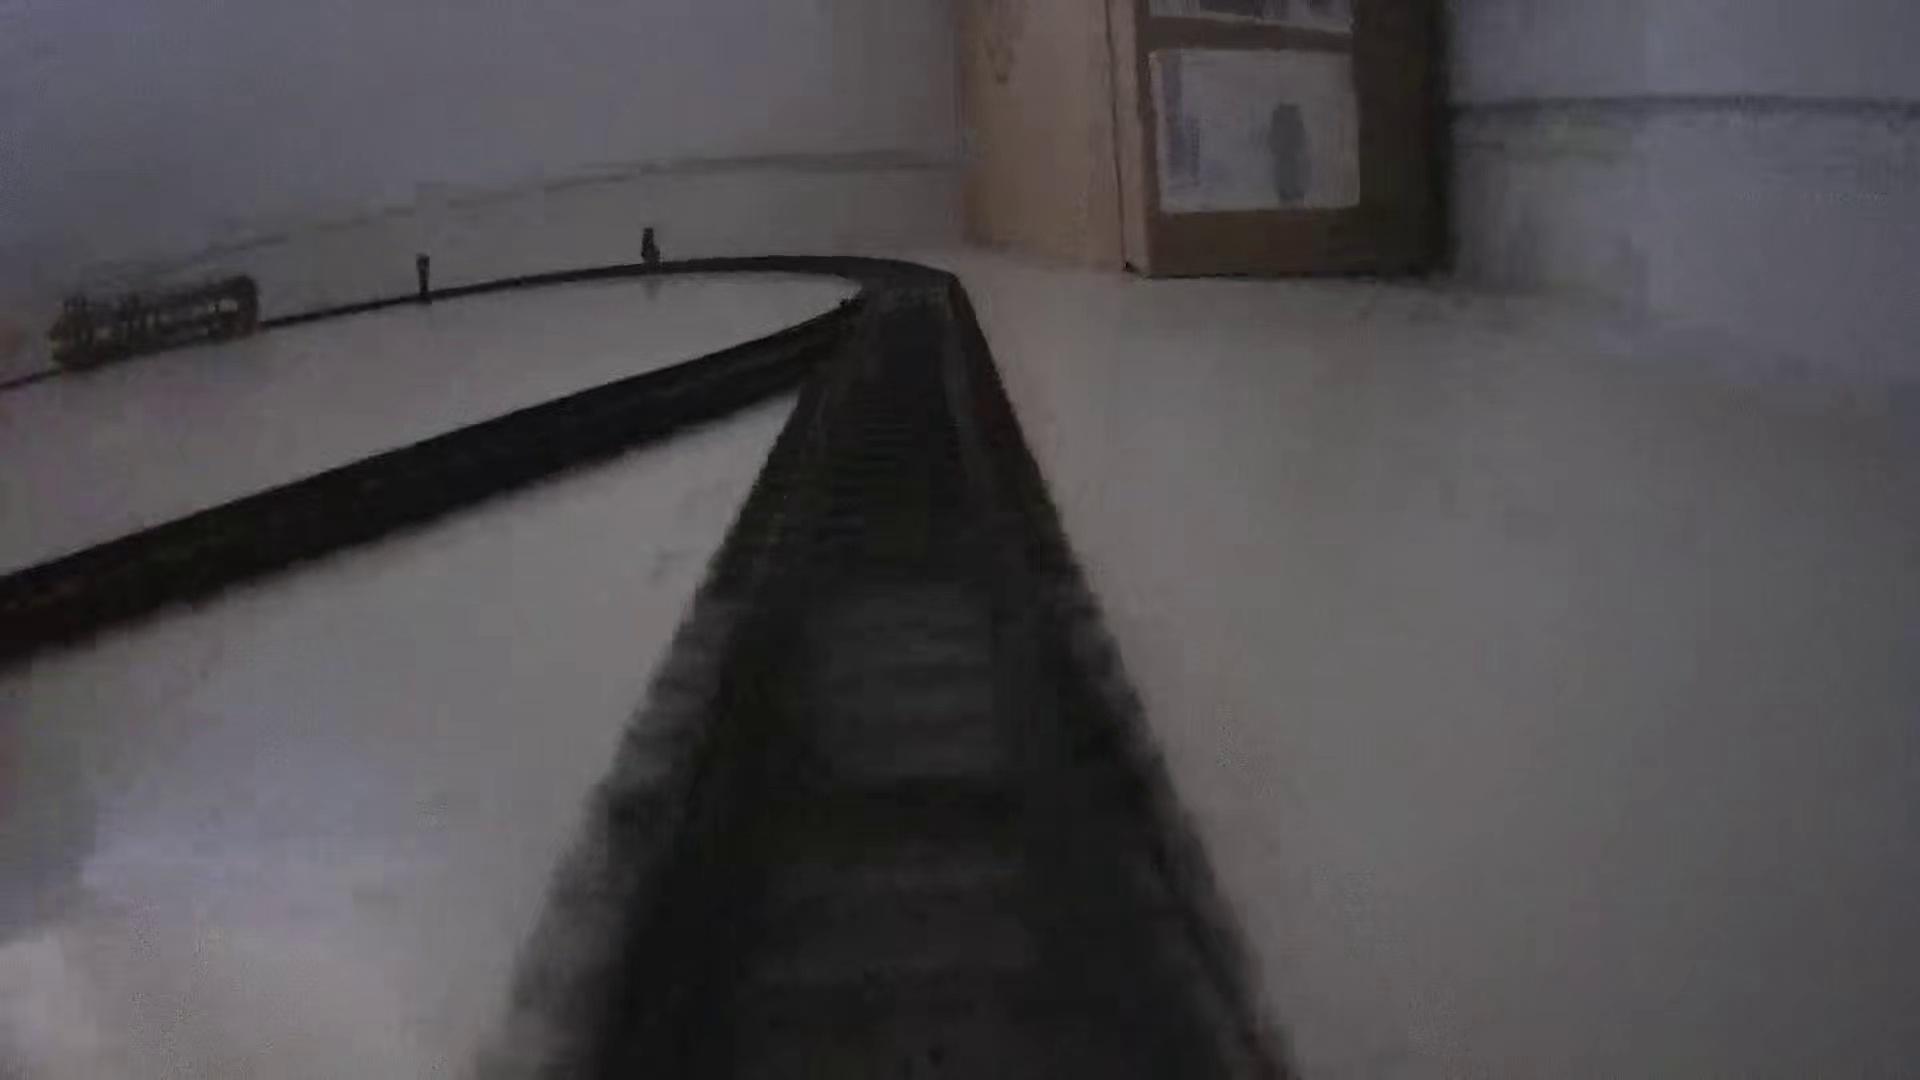people: (639, 225, 662, 270)
